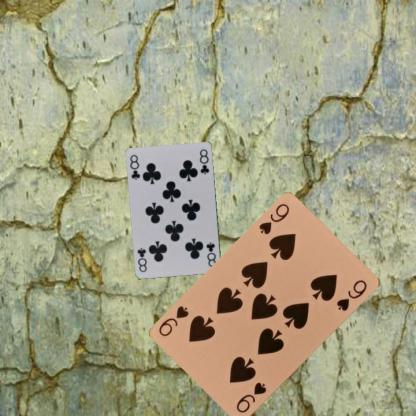8c: (127, 152, 142, 182), (204, 240, 217, 268)
9s: (256, 201, 291, 236), (234, 380, 268, 414)
